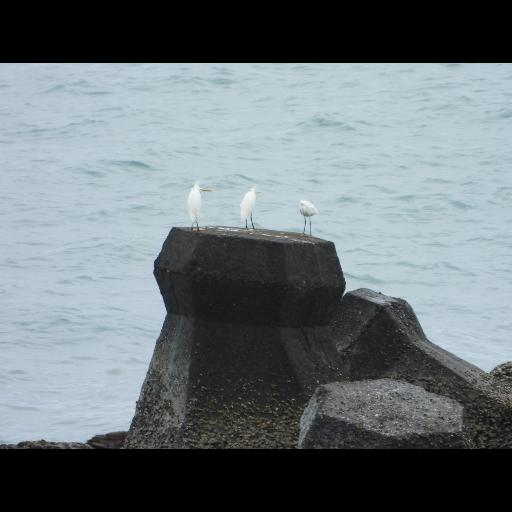chinese_egret: (188, 181, 212, 231), (238, 187, 262, 229), (296, 200, 318, 238)
